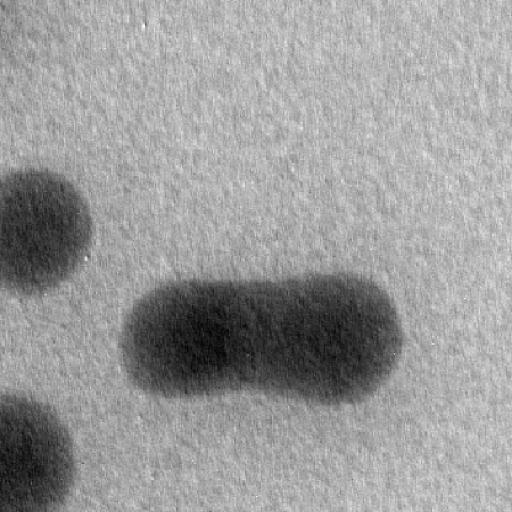Nanoparticles: (283, 272, 400, 410), (0, 168, 95, 293), (121, 282, 211, 406), (214, 274, 282, 410), (1, 396, 76, 512)
